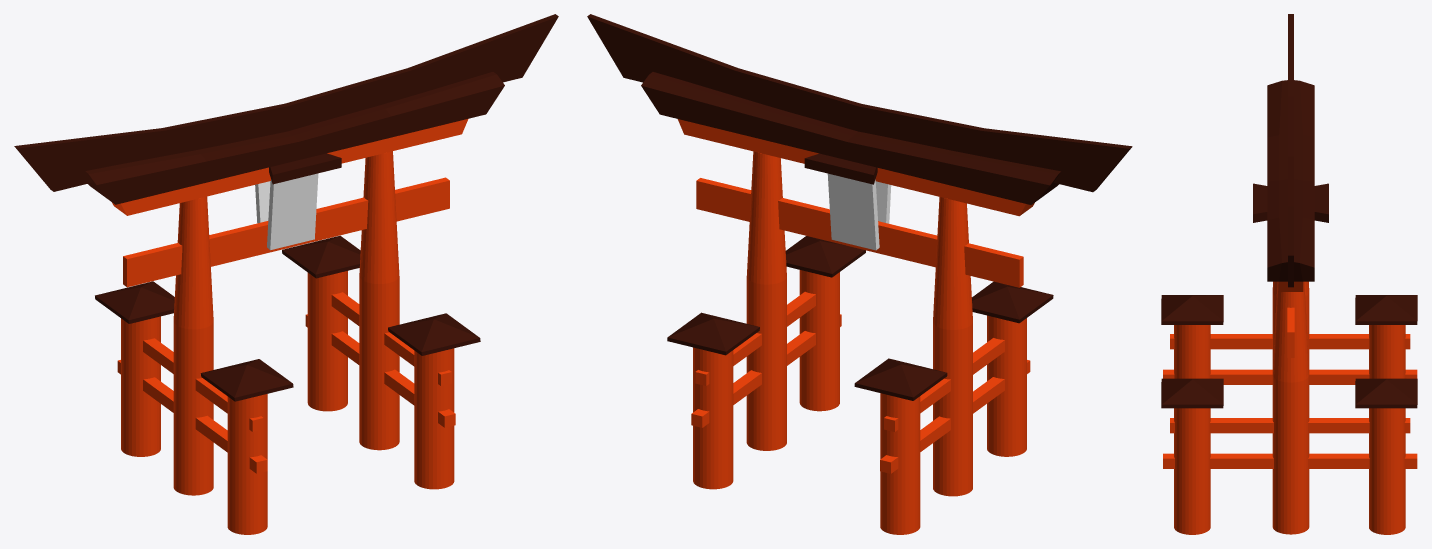
Rendered from ryoubutorii.gltf.
3 views of the same model, side by side, from view 1: azimuth 30°, elevation 25°; view 2: azimuth 150°, elevation 25°; view 3: azimuth 270°, elevation 25° (orthographic). The views are drawn at different scales.
Parts seen in each view (by area): view 1: torii; view 2: torii; view 3: torii.
Boxes of the visible parts, x1,y1,x2,y2 form: torii: (14,14,558,534); torii: (587,14,1132,534); torii: (1161,14,1417,534).
Bounding box in the file's own units: 14.73 × 9.96 × 6.59.
